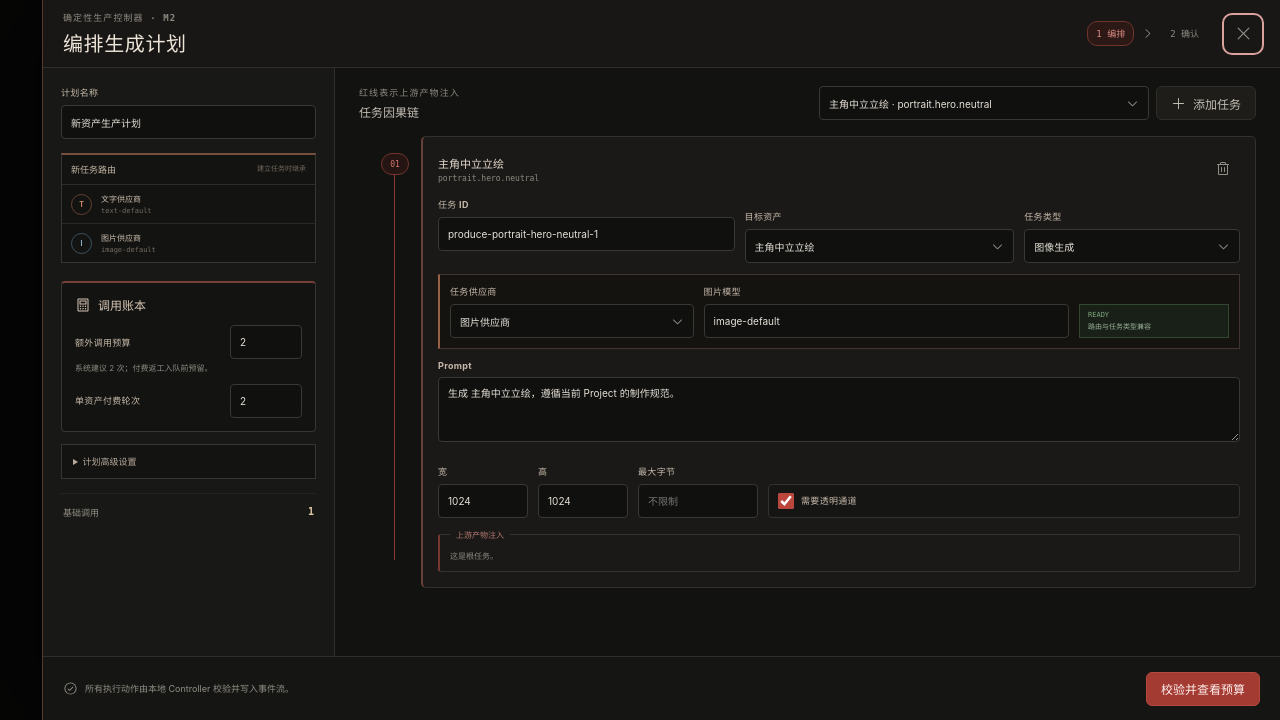
Test: M2 生产抽屉 › 按任务类型继承全局路由，并在切换供应商时要求重新选择模型
Expected: the field labelled "图片模型" holds "image-default", [704,304,1069,338]
Step 1. Click the dropdown named "任务供应商" → click(572, 321), box [450,304,694,338]
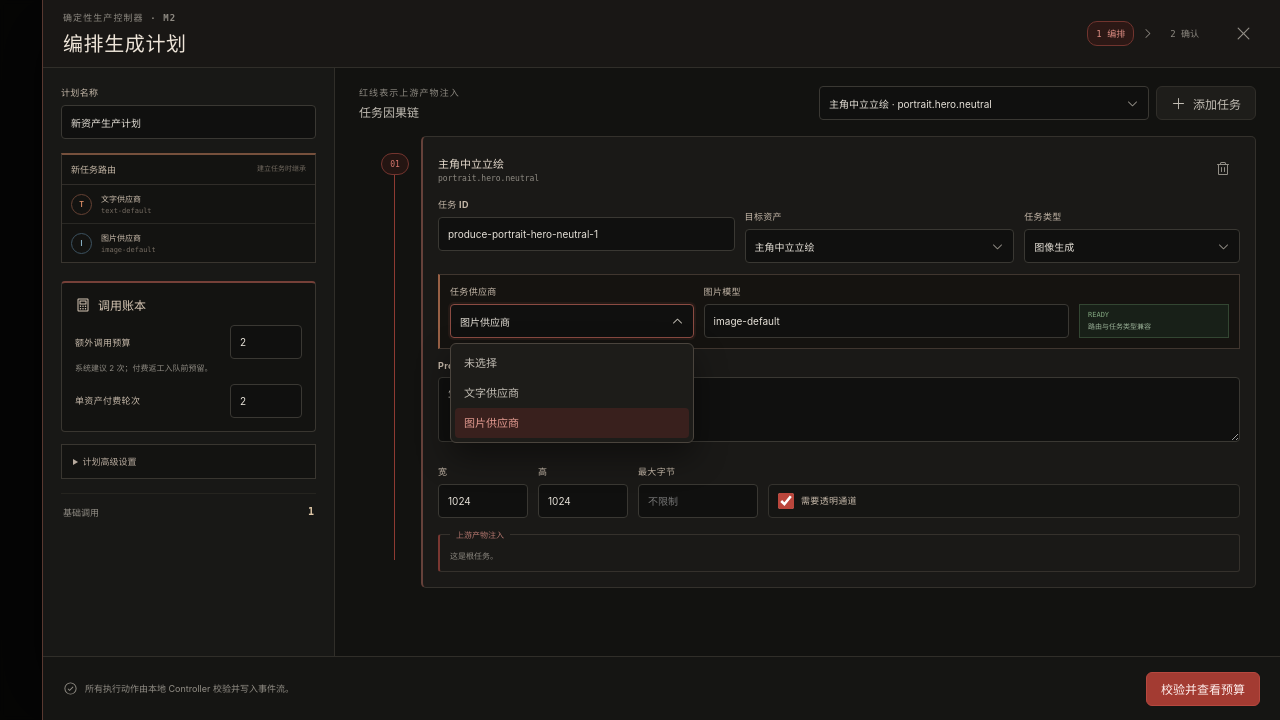
Step 2. Click the option "文字供应商" → click(492, 393), box [464,386,519,400]
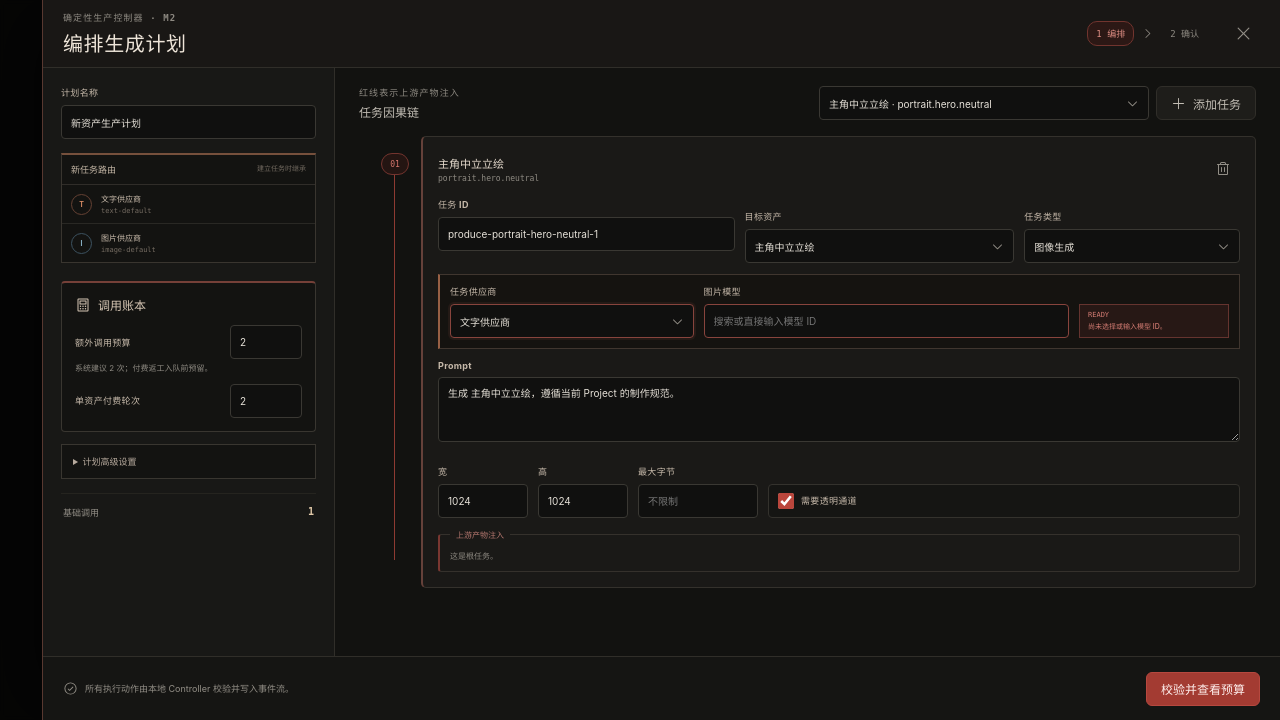
Expected: the field labelled "图片模型" is empty, [704,304,1069,338]
Step 3. Click the dropdown named "任务类型" → click(1132, 246), box [1024,229,1240,263]
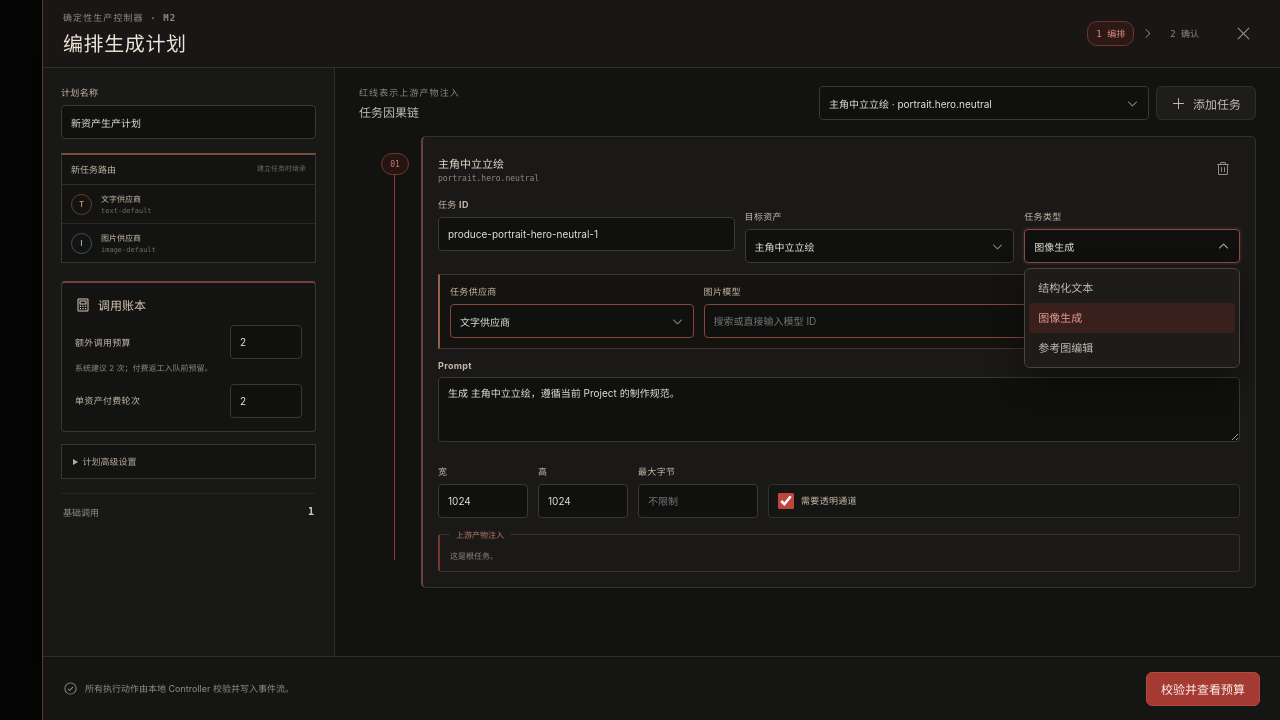
Step 4. Click the option "结构化文本" → click(1066, 288), box [1038,281,1093,295]
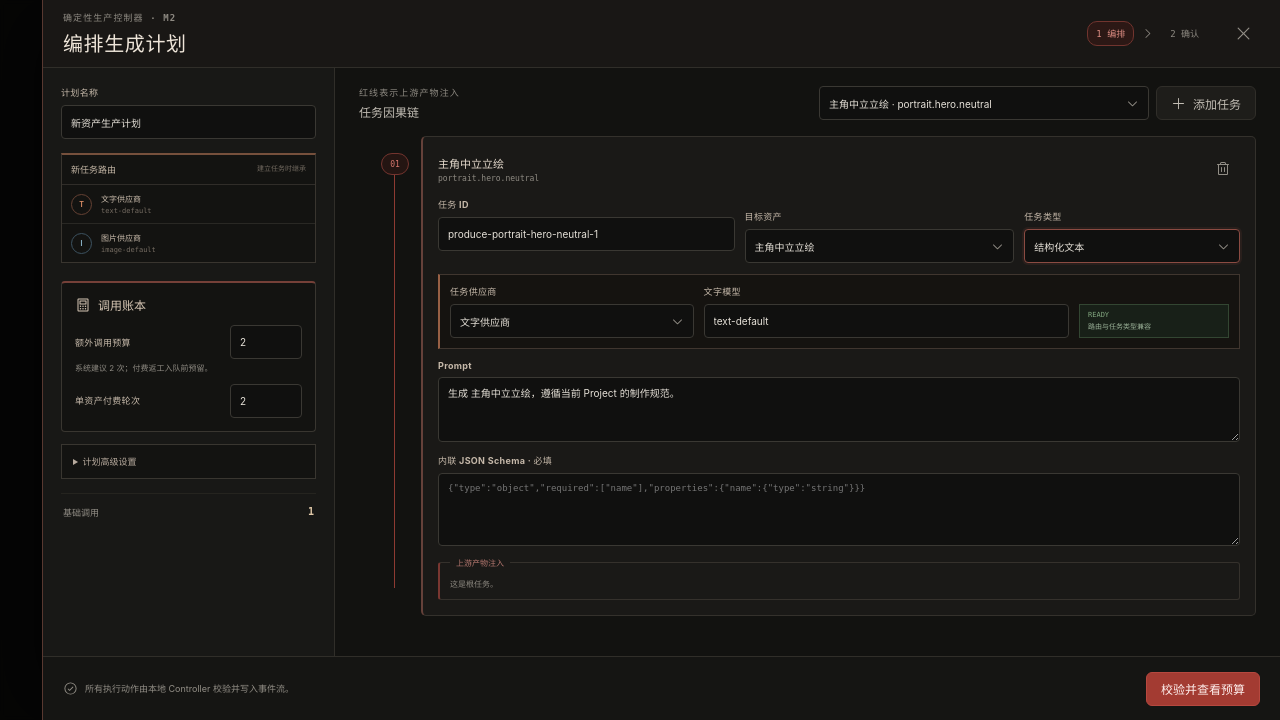
Expected: the dropdown named "任务供应商" holds "provider-text", [450,304,694,338]
Expected: the field labelled "文字模型" holds "text-default", [704,304,1069,338]
Step 5. Click the dropdown named "任务类型" → click(1132, 246), box [1024,229,1240,263]
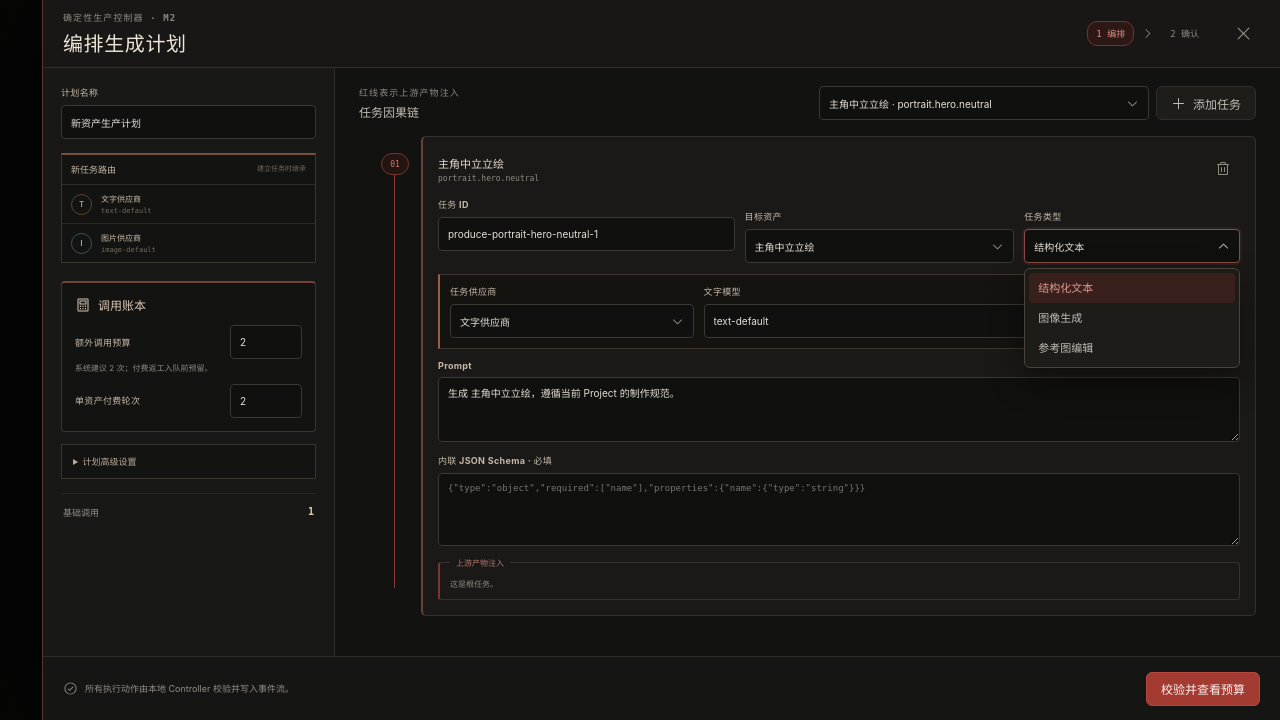
Step 6. Click the option "参考图编辑" → click(1066, 348), box [1038,341,1093,355]
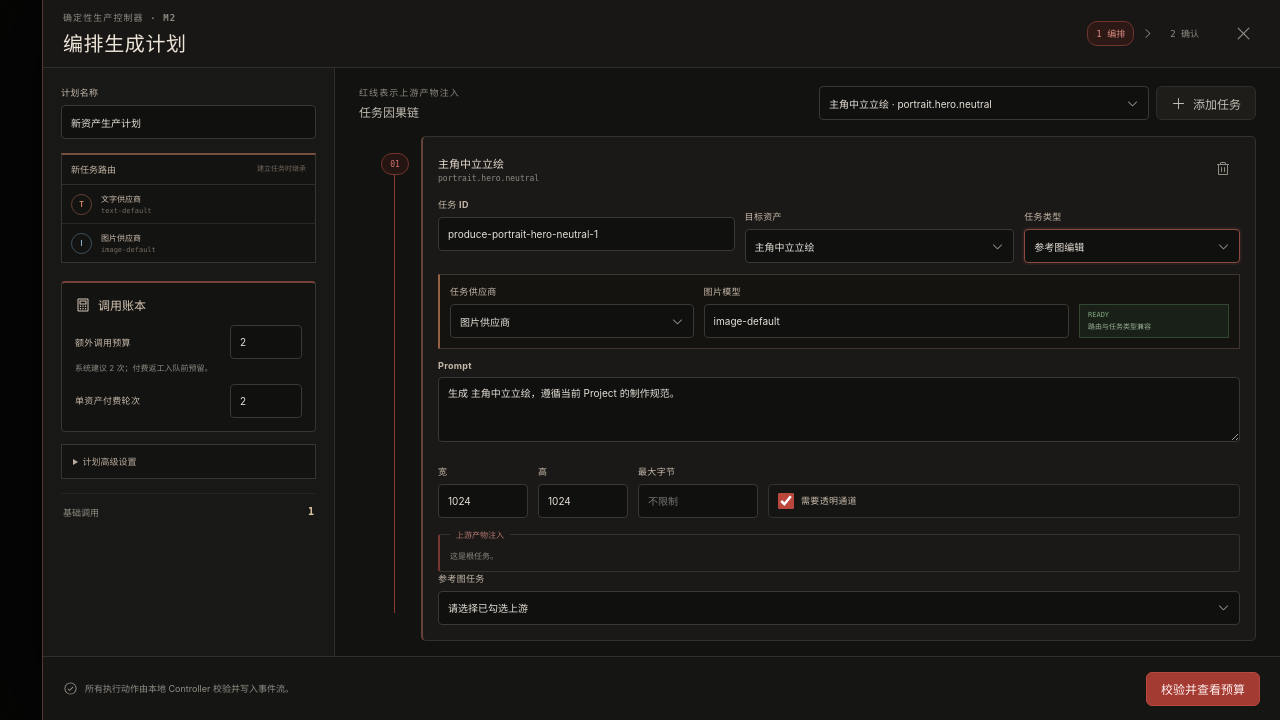
Expected: the dropdown named "任务供应商" holds "provider-image", [450,304,694,338]
Expected: the field labelled "图片模型" holds "image-default", [704,304,1069,338]
